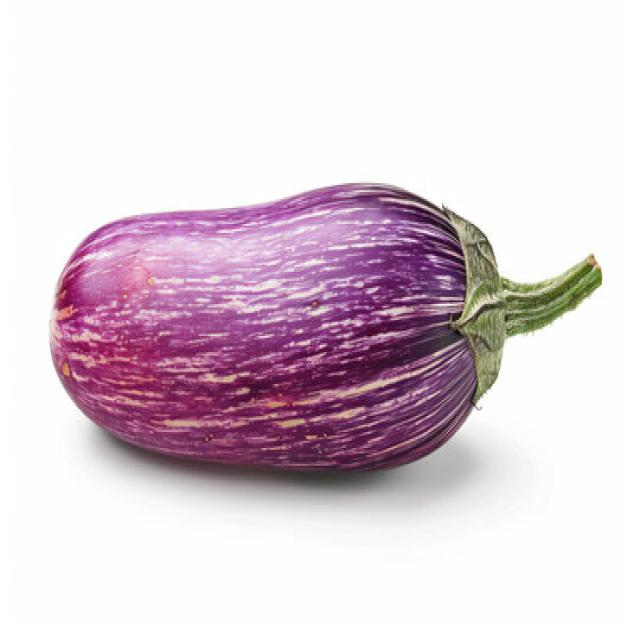Eggplant: (47, 179, 602, 473)
